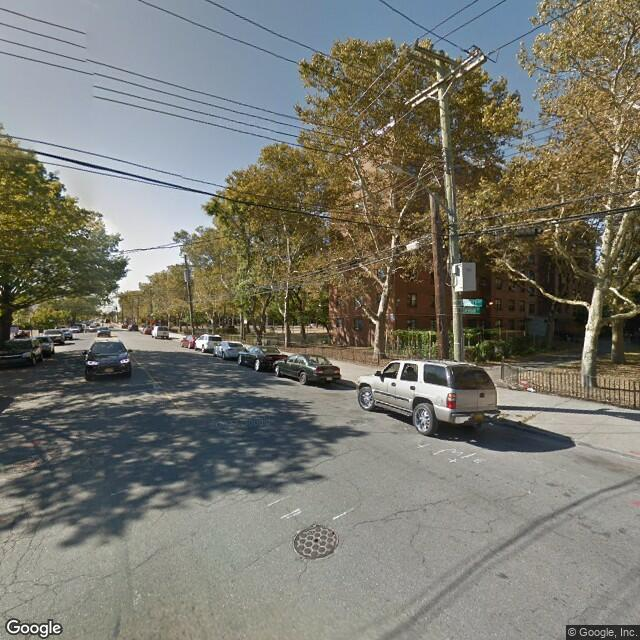litter: (528, 388, 537, 392)
